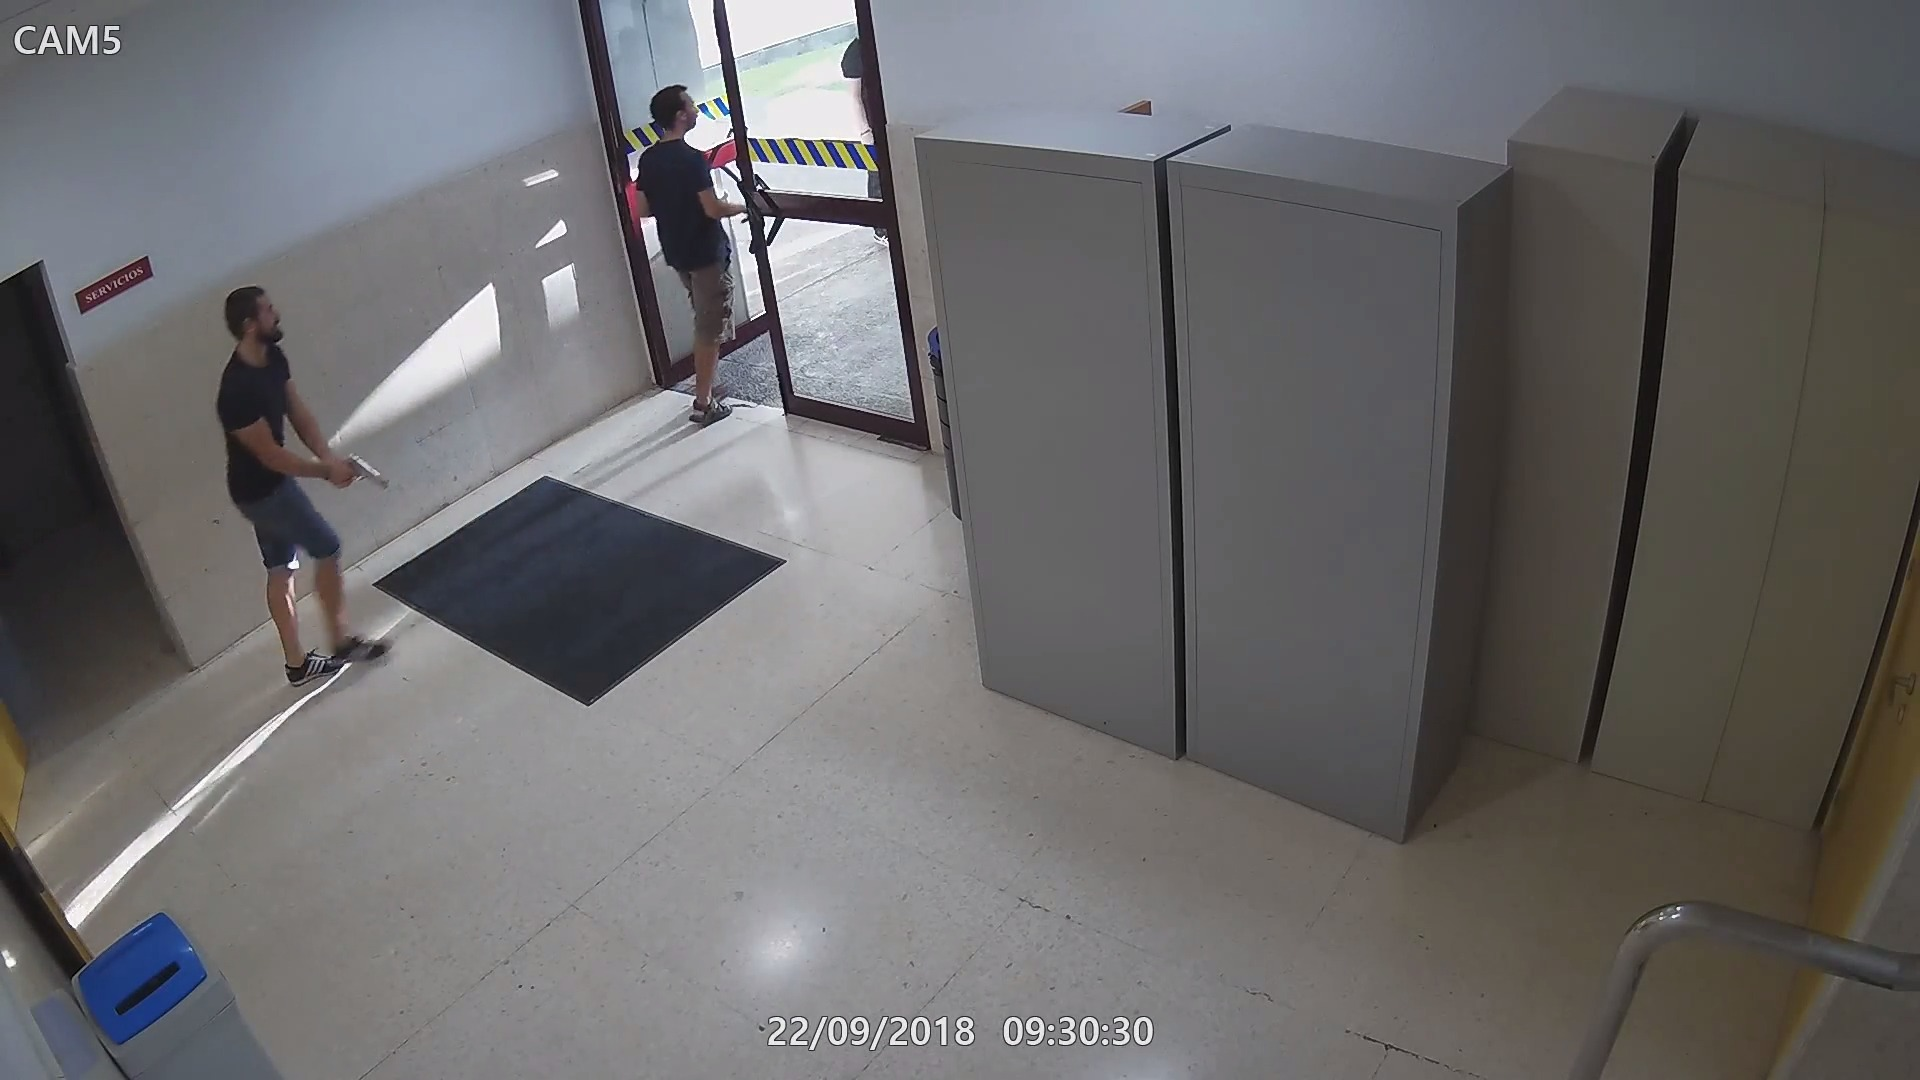Handgun: (323, 446, 390, 491)
